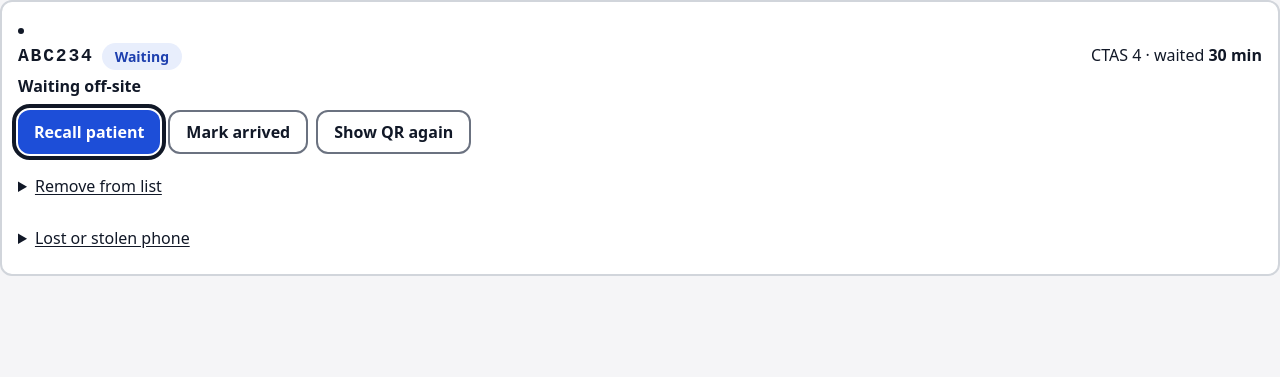
Test case: VisitRow recall › when the next drawn status skips called (the patient tapped I'm on my way), focus still lands on the progress line
Click the button "Recall patient". click: (89, 132)
box: [18, 110, 160, 154]
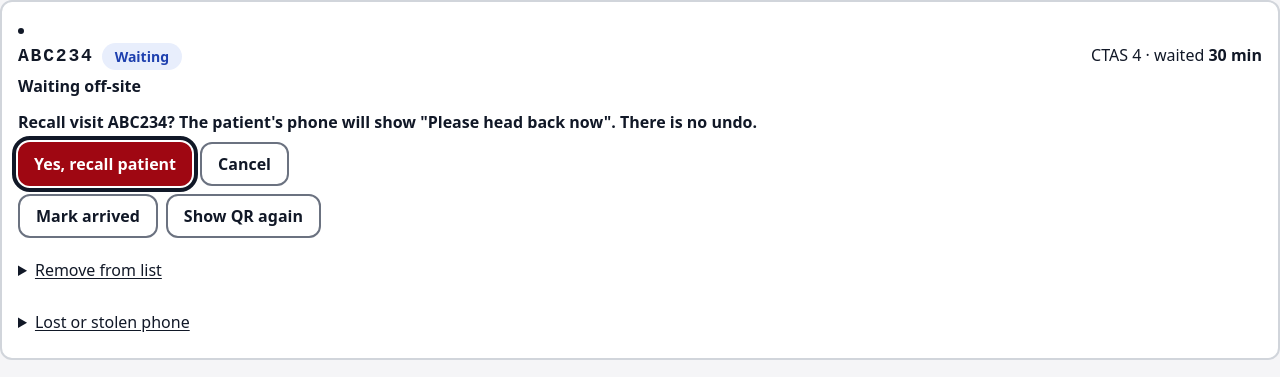
Click the button "Yes, recall patient". click: (105, 164)
box: [18, 142, 192, 186]
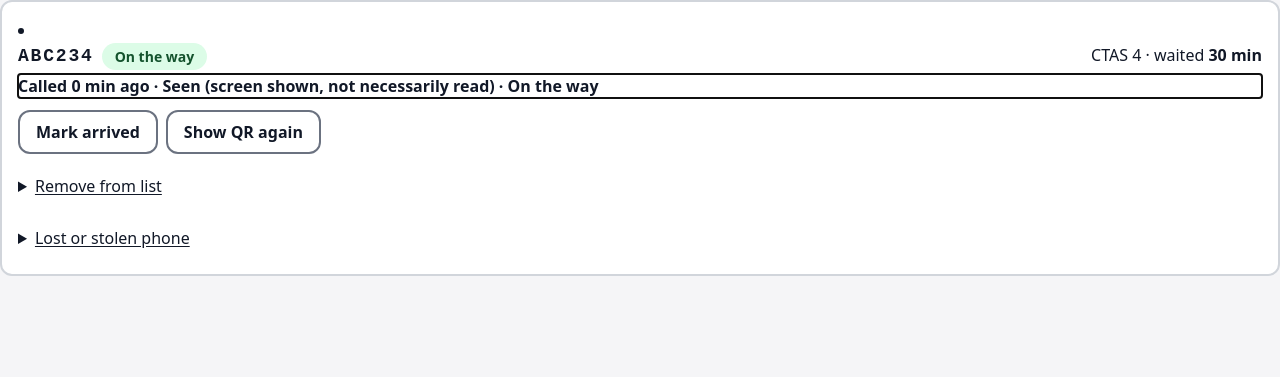
Result: the element with test id "progress" shows "On the way" at [150, 75, 599, 97]
